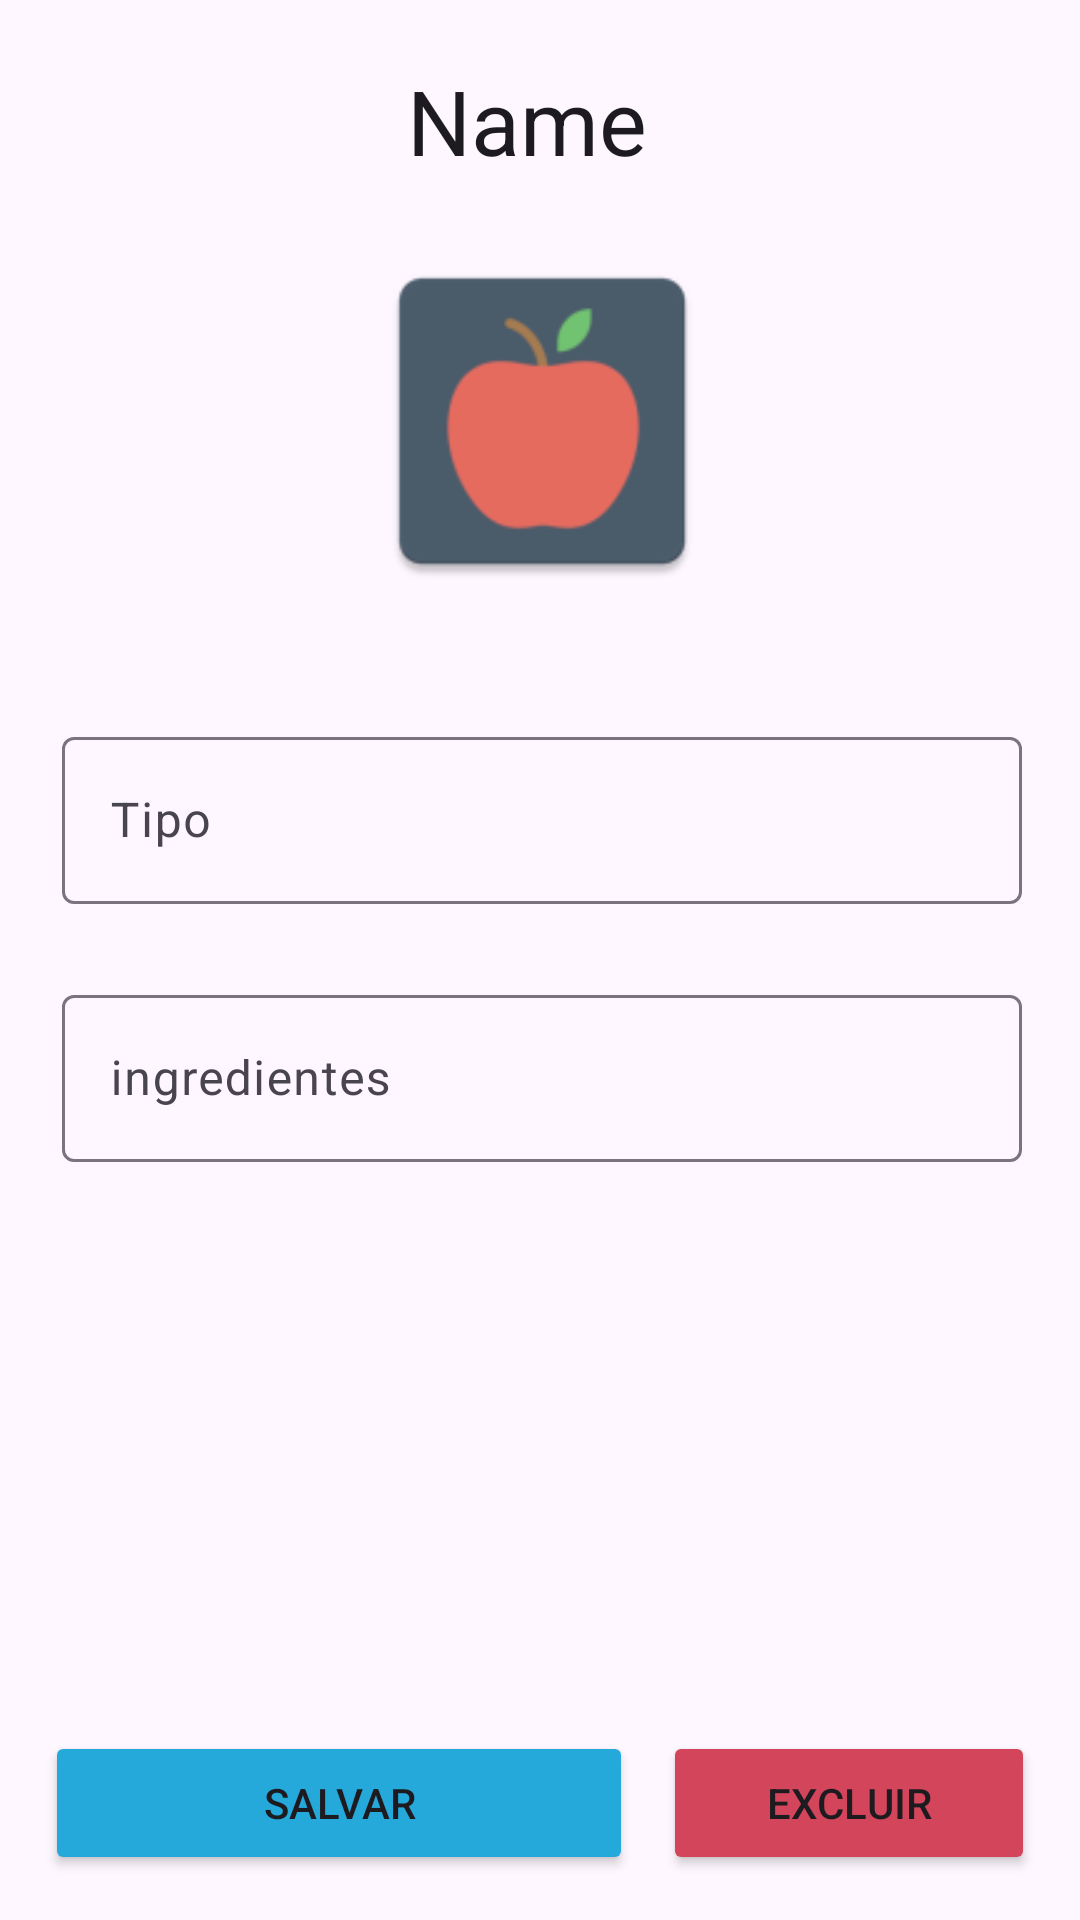

Screen size 1080×1920. Icon name, then its box in pixels as detection(x1, y1, x2, y2):
diet: detection(397, 277, 687, 573)
